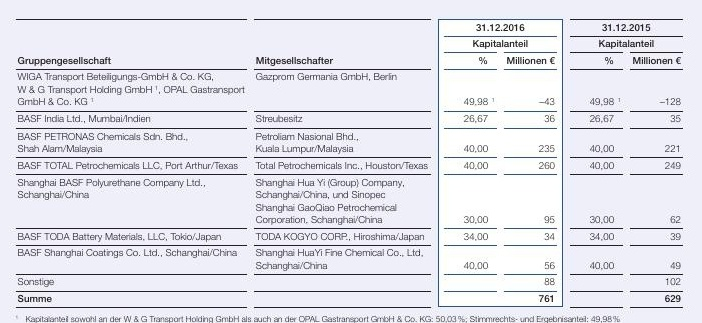table: (0, 0, 702, 323)
